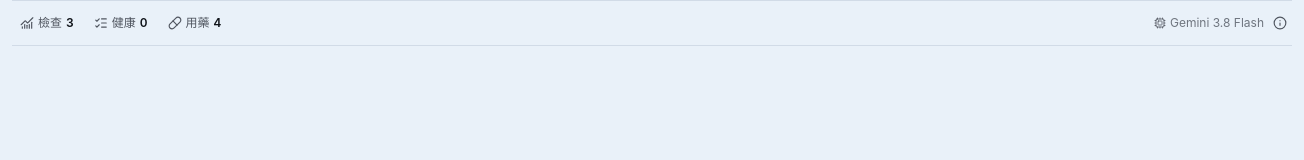
Scenario: MedicalSummaryCardNav › keeps unreported model details in an info hint beside the model name
Expected: the element with test id "medical-summary-generation-meta" reads "Gemini 3.8 Flash", [1170,15,1264,30]
Focus the button named "模型資訊：API 未回報實際模型": (1280, 23) [1268,11,1292,35]
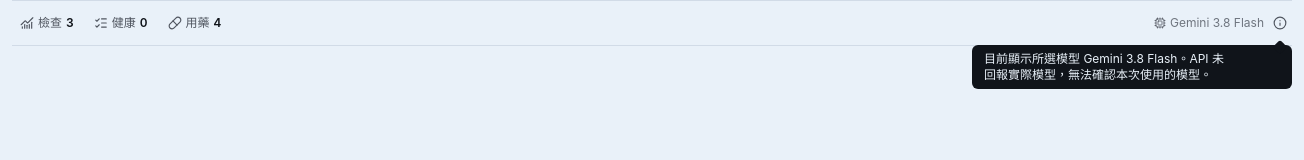
Expected: the tooltip shows "API 未回報實際模型", [984,51,1224,82]
